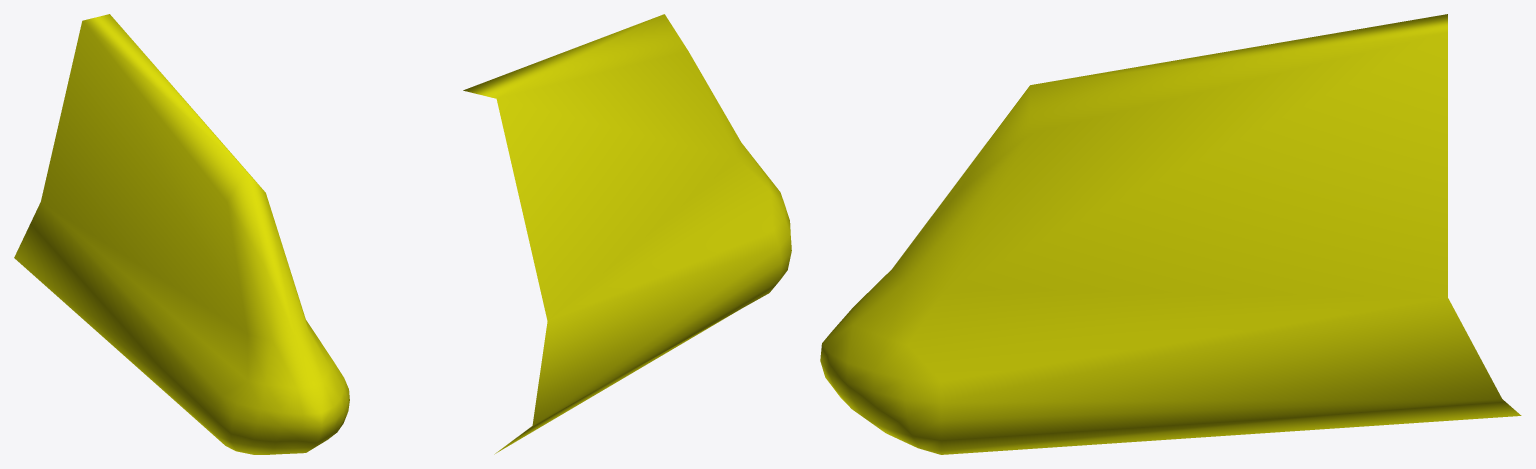
Rendered from Nose_1.glb.
The picture shows the model from 3 angles, left to right: view 1: azimuth 30°, elevation 25°; view 2: azimuth 150°, elevation 25°; view 3: azimuth 270°, elevation 25°; orthographic projection. The views are drawn at different scales.
Size of the model in its own units: 5.51 by 12.41 by 19.05.
